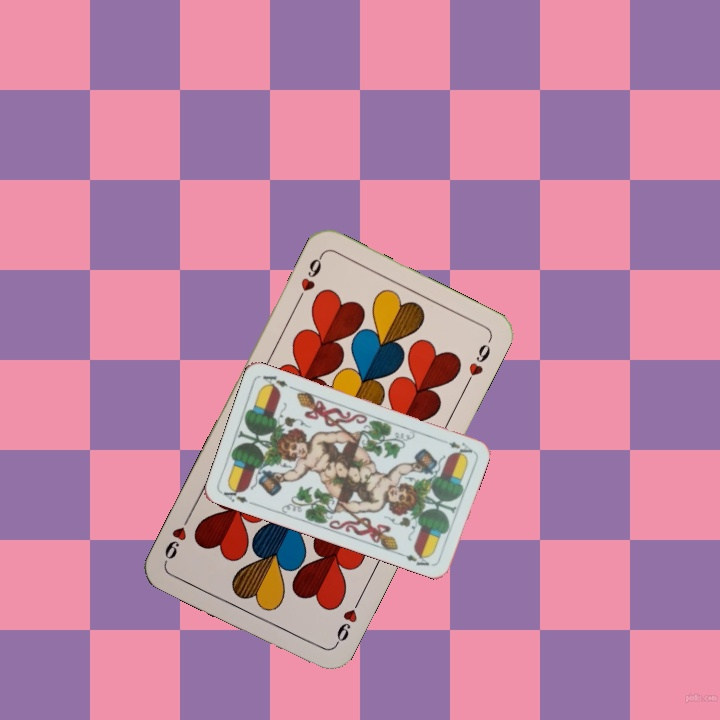EA: (219, 482, 258, 508), (444, 437, 475, 455)
H9: (292, 250, 326, 305), (330, 595, 364, 650)
